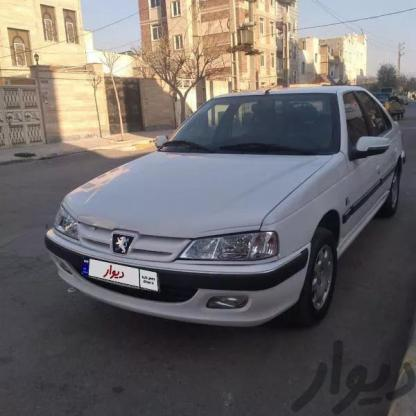Car: (39, 84, 416, 328)
